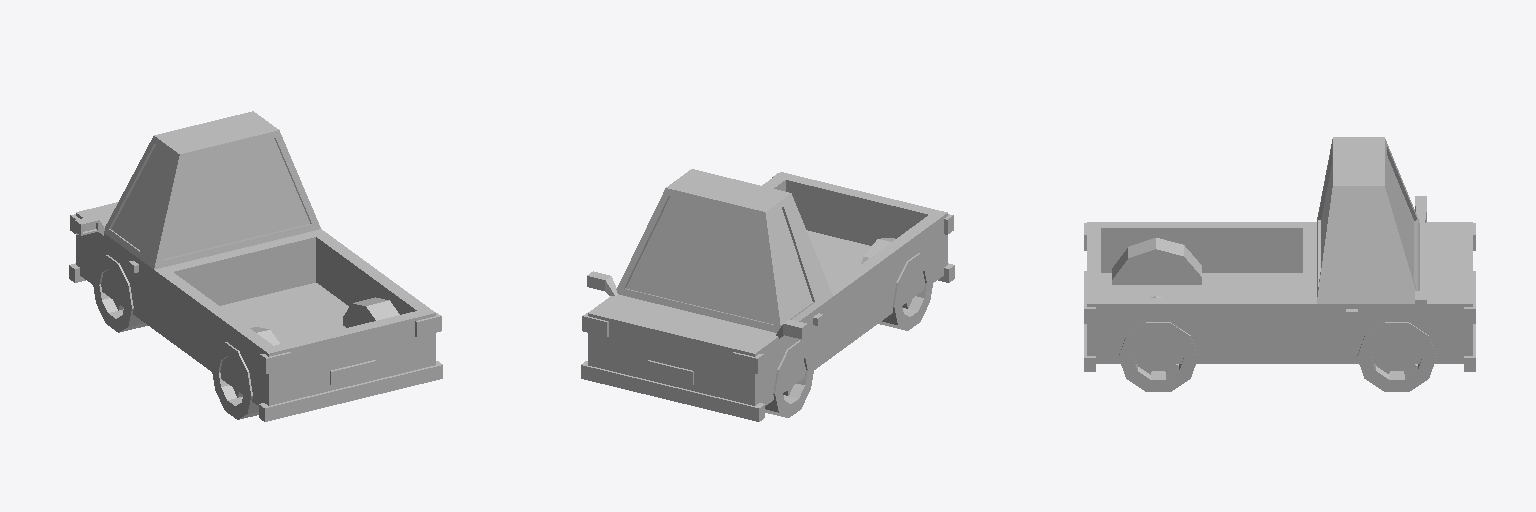
File: Coche4.obj
The picture shows the model from 3 angles: view 1: azimuth 30°, elevation 25°; view 2: azimuth 150°, elevation 25°; view 3: azimuth 270°, elevation 25°; orthographic projection.
Visible parts, largest first — view 1: Cube.006; view 2: Cube.006; view 3: Cube.006.
Part boxes in pixels (x1,y1,x2,y2): Cube.006: (69, 111, 442, 421); Cube.006: (581, 169, 954, 421); Cube.006: (1084, 137, 1475, 391).
Size of the model in its own units: 2.57 by 2.16 by 4.06.